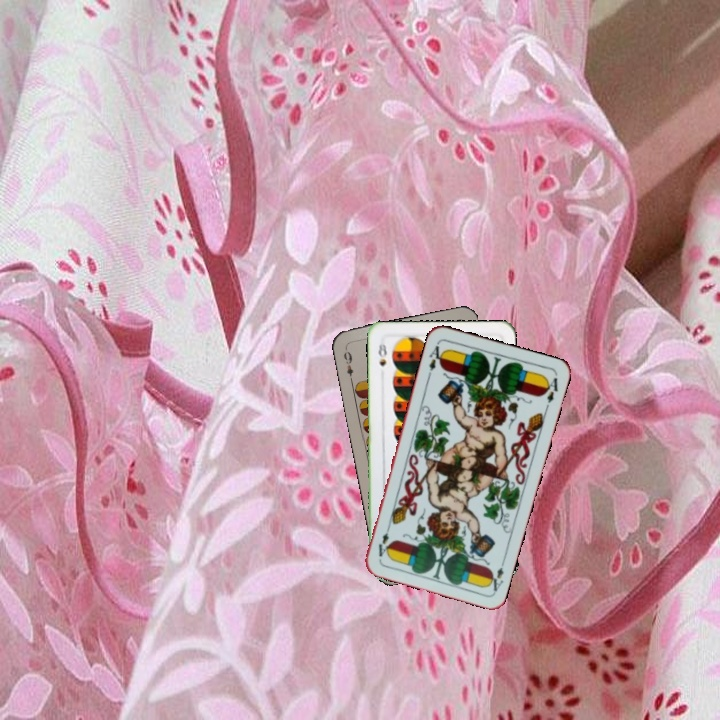E9: (340, 344, 356, 384)
EA: (424, 339, 447, 379), (484, 563, 506, 594)
S8: (374, 338, 389, 369)
